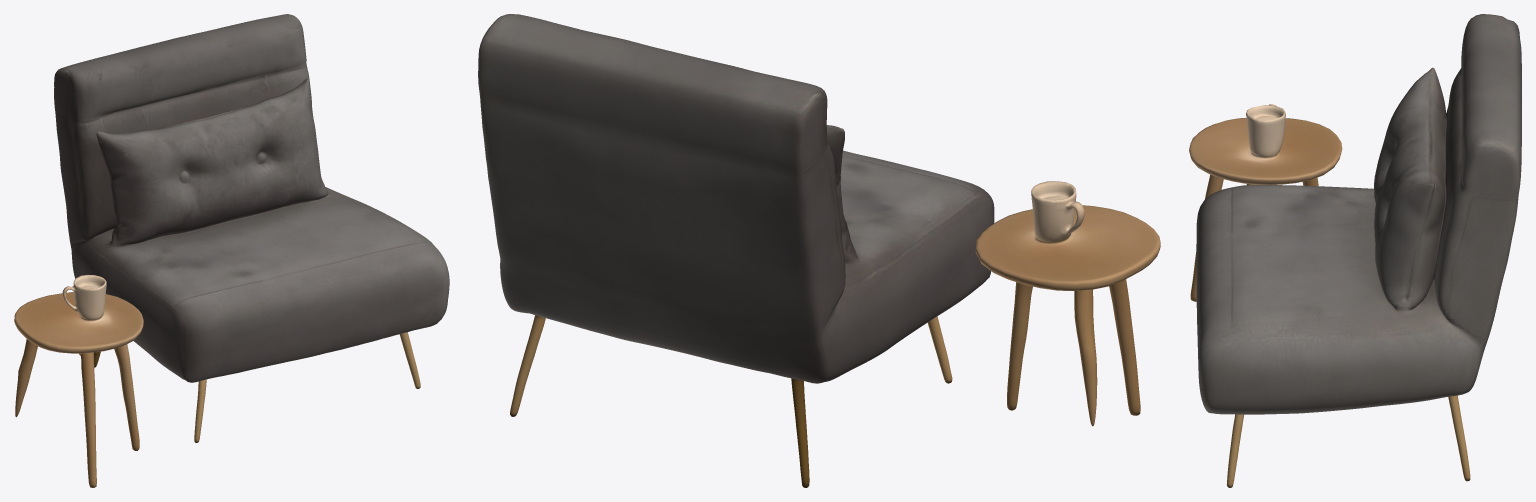
File: delton-grey-optimized.glb
3 views of the same model, side by side, from view 1: azimuth 30°, elevation 25°; view 2: azimuth 150°, elevation 25°; view 3: azimuth 270°, elevation 25° (orthographic). The views are drawn at different scales.
Visible parts, largest first — view 1: model; view 2: model; view 3: model.
Part boxes in pixels (x1,y1,x2,y2): model: (14, 14, 449, 487); model: (478, 14, 1160, 487); model: (1189, 14, 1521, 487).
Size of the model in its own units: 1.9 by 1.35 by 1.17.
Materials: 1 (1 with a texture image).
